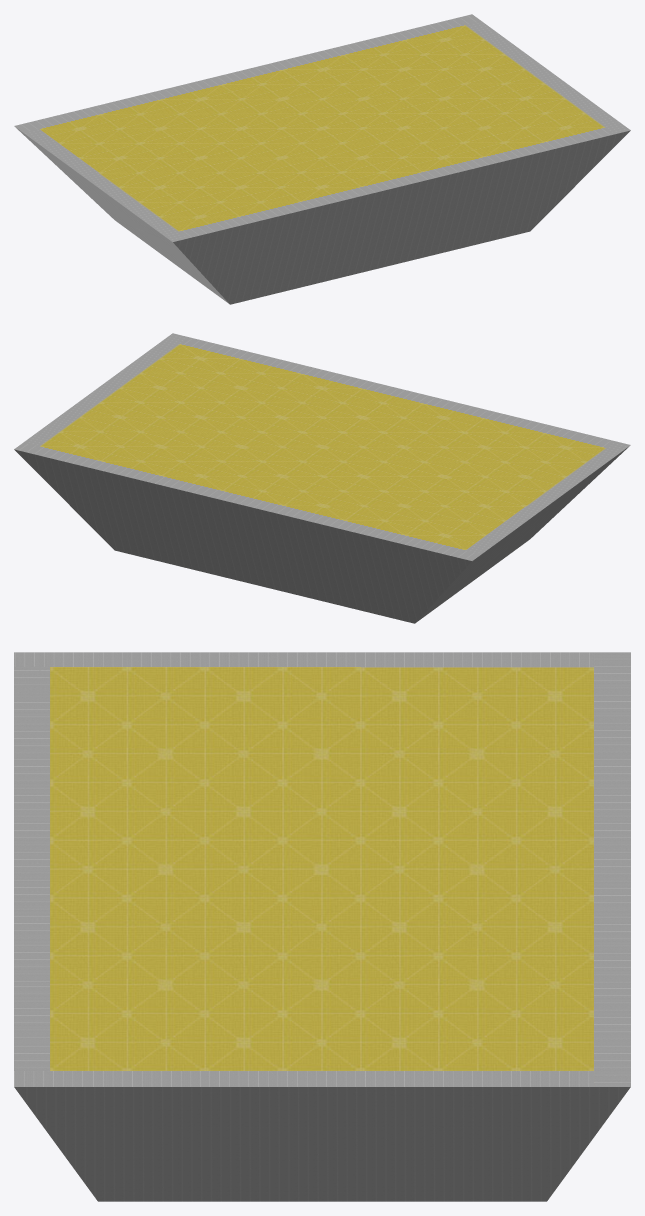
Rendered from gimmick_elevator_01.fbx.
The picture shows the model from 3 angles, top to bottom: view 1: azimuth 30°, elevation 25°; view 2: azimuth 150°, elevation 25°; view 3: azimuth 270°, elevation 25°; orthographic projection. The views are drawn at different scales.
Visible parts, largest first — view 1: gimmick_elevator_01; view 2: gimmick_elevator_01; view 3: gimmick_elevator_01.
Boxes of the visible parts, x1=… form: gimmick_elevator_01: x1=14, y1=14, x2=630, y2=304; gimmick_elevator_01: x1=14, y1=333, x2=630, y2=623; gimmick_elevator_01: x1=14, y1=652, x2=630, y2=1201.
Bounding box in the file's own units: 50 × 10.18 × 30.
Materials: 2 (2 with a texture image).
